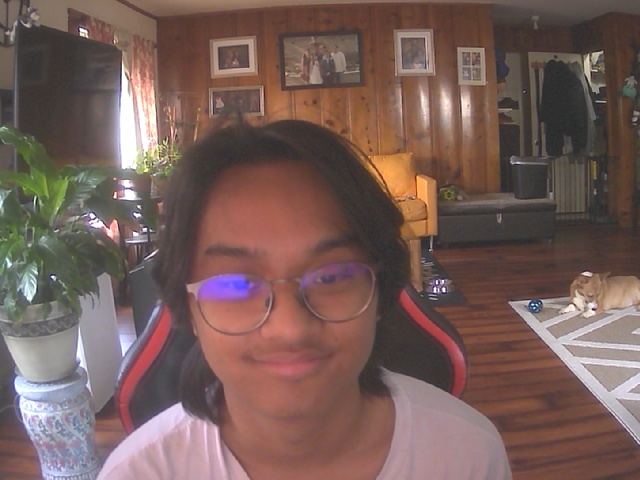happy: (182, 127, 392, 425)
